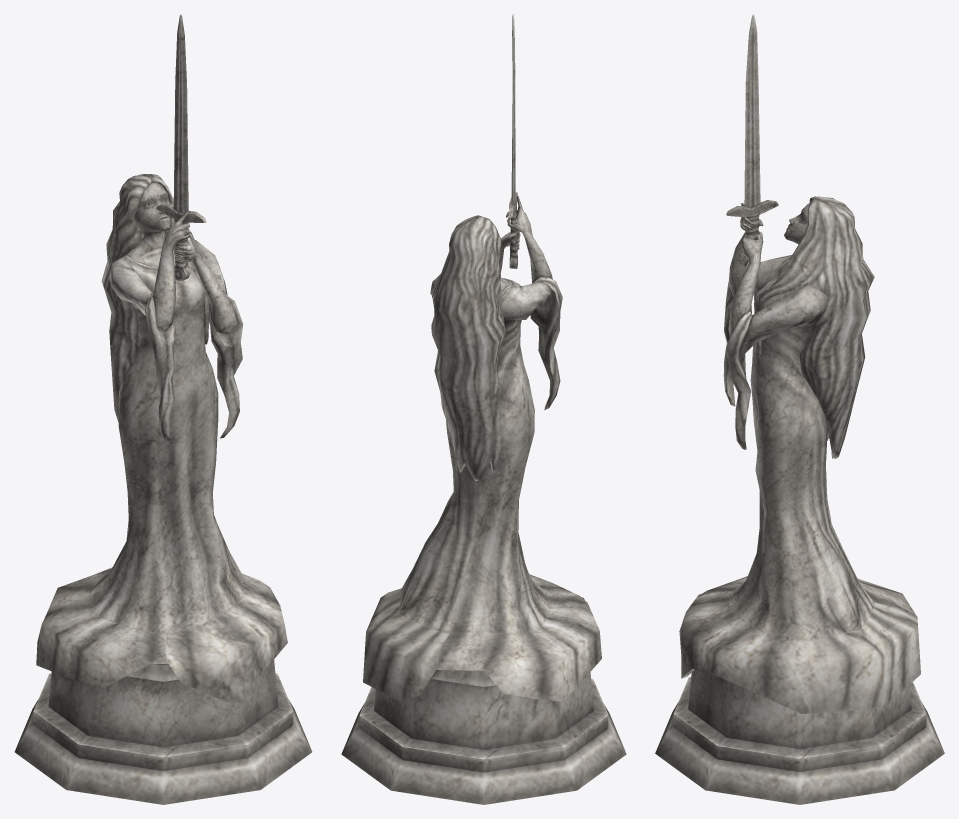
The model's file is ladyOfTheLakeStatue.dae.
The picture shows the model from 3 angles, left to right: view 1: azimuth 30°, elevation 25°; view 2: azimuth 150°, elevation 25°; view 3: azimuth 270°, elevation 25°; orthographic projection. The views are drawn at different scales.
Parts seen in each view (by area): view 1: Lady_of_the_lake_Statue; view 2: Lady_of_the_lake_Statue; view 3: Lady_of_the_lake_Statue.
Boxes of the visible parts, x1,y1,x2,y2 form: Lady_of_the_lake_Statue: [14, 14, 312, 804]; Lady_of_the_lake_Statue: [341, 14, 626, 804]; Lady_of_the_lake_Statue: [655, 14, 944, 804].
Size of the model in its own units: 0.9799 by 2.75 by 0.9952.
1 material, 1 textured.
